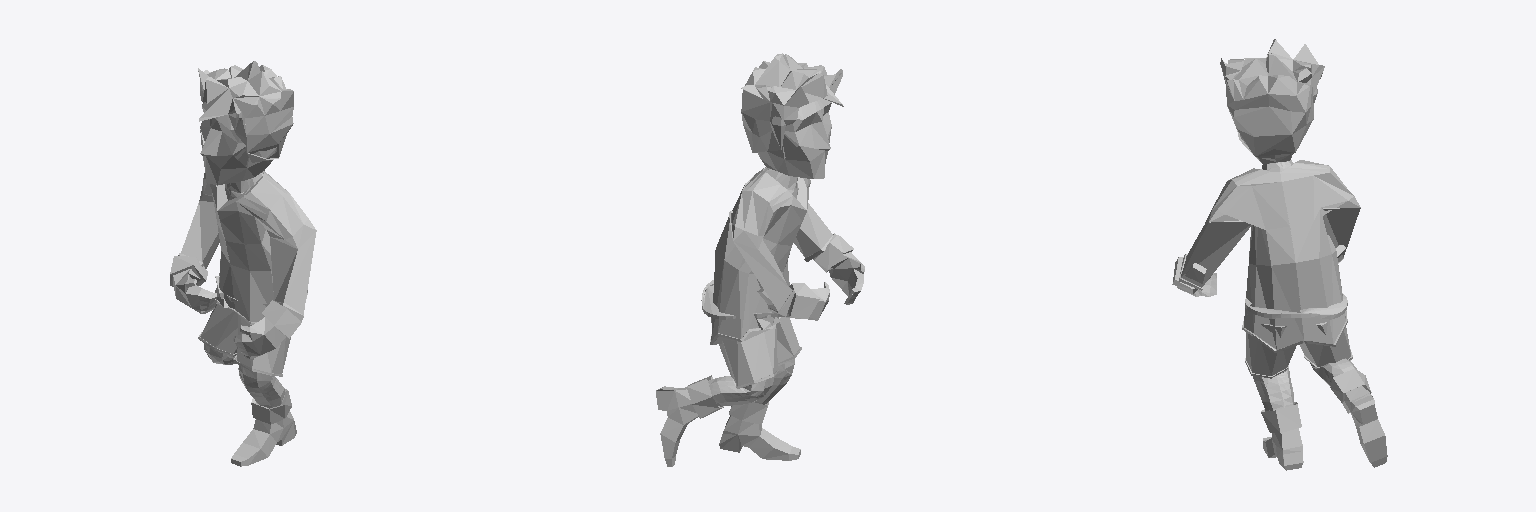
File: runForwardLeft11.obj
3 views of the same model, side by side, from view 1: azimuth 30°, elevation 25°; view 2: azimuth 150°, elevation 25°; view 3: azimuth 270°, elevation 25° (orthographic).
Parts seen in each view (by area): view 1: Jacket__jaket_Cylinder.001_Jacket__jaket_Cylinder.001_P_e8d5c2c_, Hair_Hair__Cube.000_Hair_Hair__Cube.000_PlayerMaterialOfficial_H, Head_Head_Cube.000_Head_Head_Cube.000_PlayerMaterialOfficial_Hea, Trausers_trausers_Cylinder.000_Trausers_trausers_Cylind_bfdf796_, Boot_left_bota_Cube.001_Boot_left_bota_Cube.001_PlayerM_5d38611_, Globe_left_globe_Cylinder.001_Globe_left_globe_Cylinder_383ca3a_, Humanoide_Body_Base_Modified_Humanoide_Base_Base_NPC__c_7f84192_, Globe_right_globe_Cylinder.005_Globe_right_globe_Cylind_70ee9c7_; view 2: Jacket__jaket_Cylinder.001_Jacket__jaket_Cylinder.001_P_e8d5c2c_, Hair_Hair__Cube.000_Hair_Hair__Cube.000_PlayerMaterialOfficial_H, Head_Head_Cube.000_Head_Head_Cube.000_PlayerMaterialOfficial_Hea, Trausers_trausers_Cylinder.000_Trausers_trausers_Cylind_bfdf796_, Boot_right_bota_Cube.000_Boot_right_bota_Cube.000_Playe_7d61669_, Boot_left_bota_Cube.001_Boot_left_bota_Cube.001_PlayerM_5d38611_, Humanoide_Body_Base_Modified_Humanoide_Base_Base_NPC__c_7f84192_, Globe_left_globe_Cylinder.001_Globe_left_globe_Cylinder_383ca3a_, Globe_right_globe_Cylinder.005_Globe_right_globe_Cylind_70ee9c7_; view 3: Jacket__jaket_Cylinder.001_Jacket__jaket_Cylinder.001_P_e8d5c2c_, Hair_Hair__Cube.000_Hair_Hair__Cube.000_PlayerMaterialOfficial_H, Boot_right_bota_Cube.000_Boot_right_bota_Cube.000_Playe_7d61669_, Trausers_trausers_Cylinder.000_Trausers_trausers_Cylind_bfdf796_, Boot_left_bota_Cube.001_Boot_left_bota_Cube.001_PlayerM_5d38611_, Humanoide_Body_Base_Modified_Humanoide_Base_Base_NPC__c_7f84192_, Belt_Cylinder.001_Belt_Cylinder.001_PlayerMaterialOfficial_Belt_, Globe_left_globe_Cylinder.001_Globe_left_globe_Cylinder_383ca3a_.
Boxes of the visible parts, <box> form: Jacket__jaket_Cylinder.001_Jacket__jaket_Cylinder.001_P_e8d5c2c_: <box>178,171,316,324</box>; Hair_Hair__Cube.000_Hair_Hair__Cube.000_PlayerMaterialOfficial_H: <box>198,61,293,162</box>; Head_Head_Cube.000_Head_Head_Cube.000_PlayerMaterialOfficial_Hea: <box>200,102,276,185</box>; Trausers_trausers_Cylinder.000_Trausers_trausers_Cylind_bfdf796_: <box>198,304,290,376</box>; Boot_left_bota_Cube.001_Boot_left_bota_Cube.001_PlayerM_5d38611_: <box>231,388,296,466</box>; Globe_left_globe_Cylinder.001_Globe_left_globe_Cylinder_383ca3a_: <box>233,300,301,358</box>; Humanoide_Body_Base_Modified_Humanoide_Base_Base_NPC__c_7f84192_: <box>204,173,284,408</box>; Globe_right_globe_Cylinder.005_Globe_right_globe_Cylind_70ee9c7_: <box>170,256,216,313</box>; Jacket__jaket_Cylinder.001_Jacket__jaket_Cylinder.001_P_e8d5c2c_: <box>710,167,836,344</box>; Hair_Hair__Cube.000_Hair_Hair__Cube.000_PlayerMaterialOfficial_H: <box>741,53,843,152</box>; Head_Head_Cube.000_Head_Head_Cube.000_PlayerMaterialOfficial_Hea: <box>758,99,831,178</box>; Trausers_trausers_Cylinder.000_Trausers_trausers_Cylind_bfdf796_: <box>711,317,801,388</box>; Boot_right_bota_Cube.000_Boot_right_bota_Cube.000_Playe_7d61669_: <box>656,375,723,466</box>; Boot_left_bota_Cube.001_Boot_left_bota_Cube.001_PlayerM_5d38611_: <box>719,402,800,460</box>; Humanoide_Body_Base_Modified_Humanoide_Base_Base_NPC__c_7f84192_: <box>708,167,798,406</box>; Globe_left_globe_Cylinder.001_Globe_left_globe_Cylinder_383ca3a_: <box>813,235,864,304</box>; Globe_right_globe_Cylinder.005_Globe_right_globe_Cylind_70ee9c7_: <box>778,282,829,320</box>; Jacket__jaket_Cylinder.001_Jacket__jaket_Cylinder.001_P_e8d5c2c_: <box>1179,160,1360,352</box>; Hair_Hair__Cube.000_Hair_Hair__Cube.000_PlayerMaterialOfficial_H: <box>1220,39,1324,156</box>; Boot_right_bota_Cube.000_Boot_right_bota_Cube.000_Playe_7d61669_: <box>1330,368,1387,467</box>; Trausers_trausers_Cylinder.000_Trausers_trausers_Cylind_bfdf796_: <box>1245,314,1352,378</box>; Boot_left_bota_Cube.001_Boot_left_bota_Cube.001_PlayerM_5d38611_: <box>1261,402,1303,470</box>; Humanoide_Body_Base_Modified_Humanoide_Base_Base_NPC__c_7f84192_: <box>1253,160,1356,410</box>; Belt_Cylinder.001_Belt_Cylinder.001_PlayerMaterialOfficial_Belt_: <box>1245,293,1347,319</box>; Globe_left_globe_Cylinder.001_Globe_left_globe_Cylinder_383ca3a_: <box>1172,257,1216,296</box>.
Bounding box in the file's own units: 14.09 × 38.78 × 18.96.